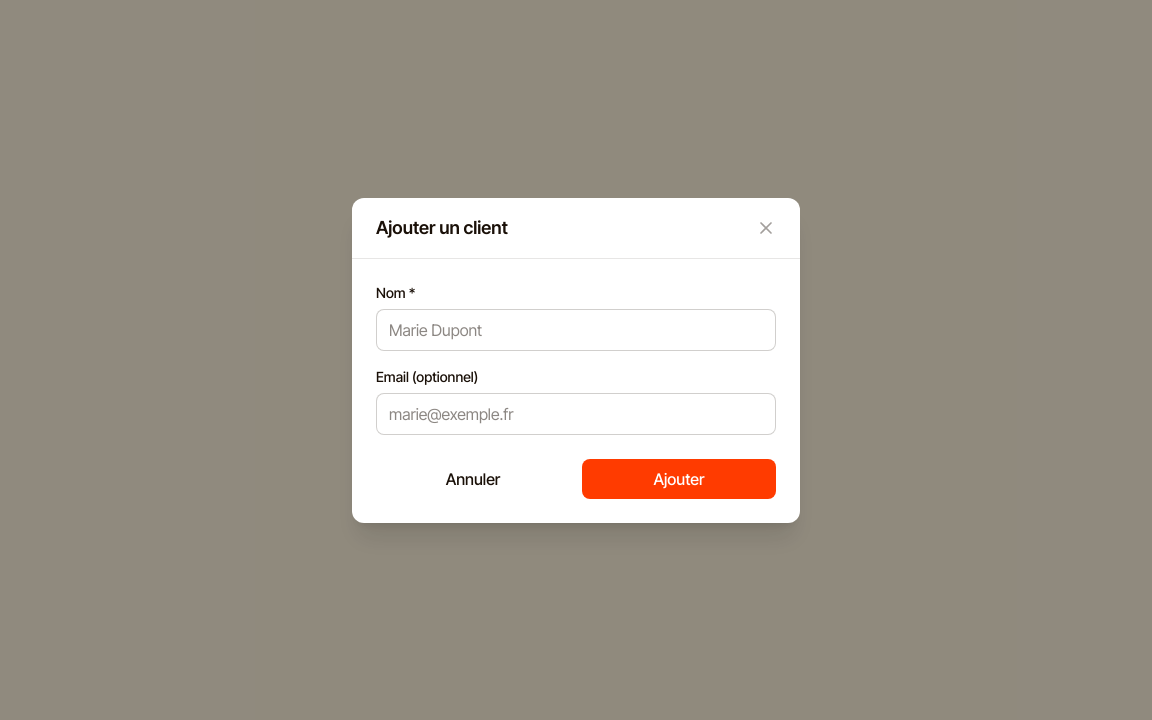
it: AddCustomerModal › bloque le submit et affiche une erreur Zod si le nom est trop court
The width and height of the screenshot is (1152, 720).
Type "A" into the field with placeholder "Marie Dupont" at (576, 330), box left=376, top=308, right=776, bottom=350
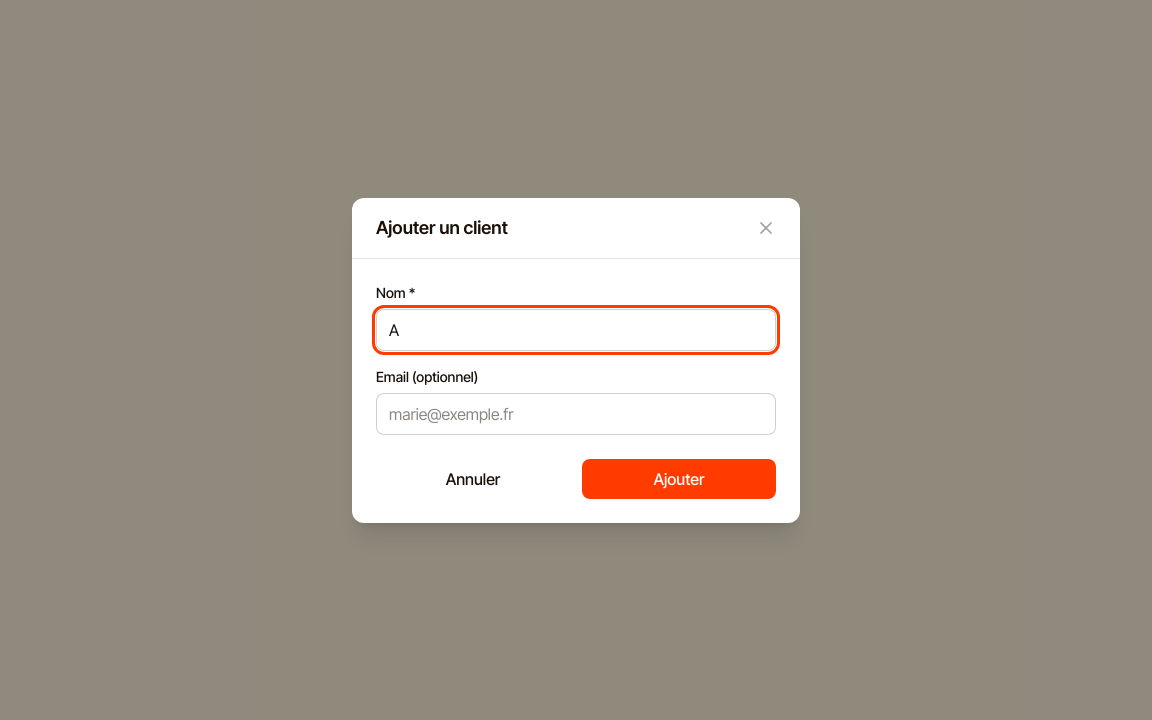
Click the button "Ajouter" at (679, 478), box left=582, top=458, right=776, bottom=498
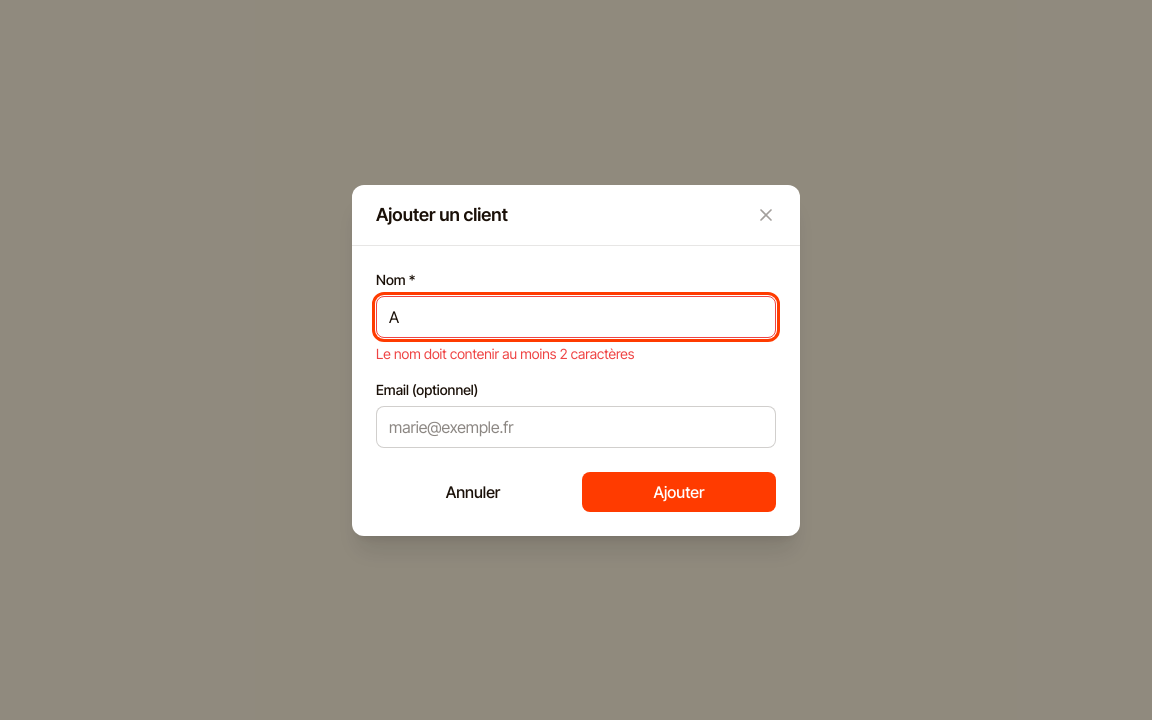
Expected: the text "Le nom doit contenir au moins 2 caractères" is shown, left=376, top=344, right=634, bottom=362
